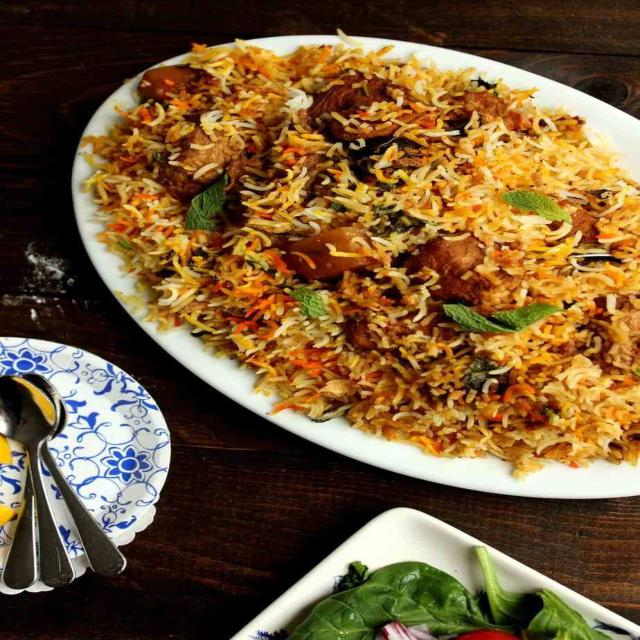chicken biryani: (116, 67, 618, 455)
